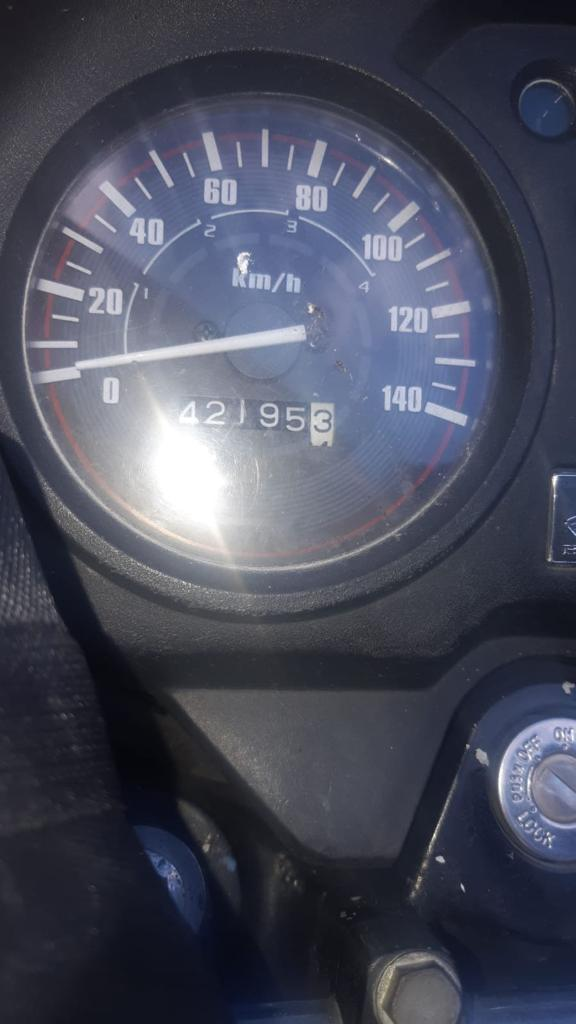1: (238, 399, 246, 423)
2: (202, 399, 225, 425)
3: (313, 408, 331, 432)
4: (177, 399, 198, 426)
5: (285, 406, 305, 431)
9: (259, 402, 279, 428)
odometer: (172, 392, 337, 448)
